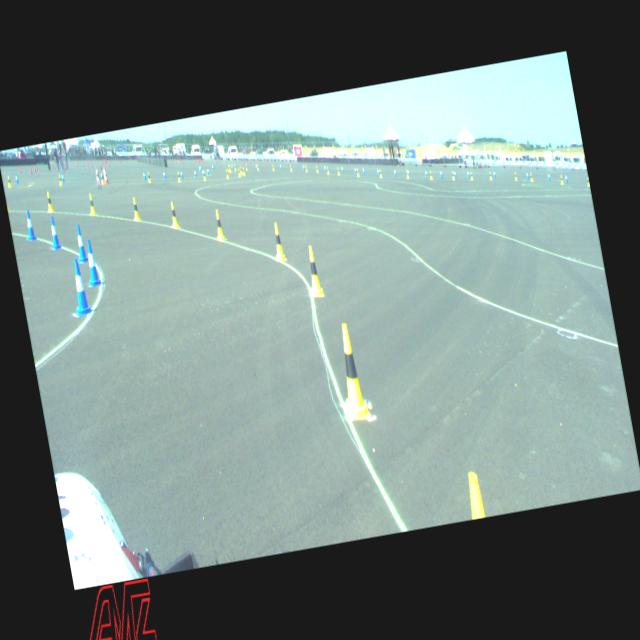blue_cone: (68, 258, 91, 314), (82, 240, 102, 286), (73, 224, 88, 262), (46, 216, 60, 248), (23, 209, 36, 240), (14, 172, 18, 184), (423, 168, 428, 177), (564, 172, 568, 182), (162, 170, 166, 180), (142, 170, 146, 180), (525, 170, 529, 180), (392, 168, 397, 176), (61, 172, 65, 182), (439, 169, 443, 178), (546, 171, 550, 180), (206, 166, 210, 175), (193, 168, 197, 177), (492, 169, 496, 178), (466, 168, 469, 178), (278, 162, 282, 169), (180, 169, 183, 178), (453, 169, 456, 178), (201, 167, 204, 176), (376, 167, 379, 175), (230, 162, 233, 170), (323, 164, 326, 172), (406, 168, 409, 176), (198, 165, 201, 172), (340, 165, 343, 172), (255, 162, 258, 169), (211, 164, 214, 170), (362, 166, 364, 174), (354, 165, 356, 173), (302, 162, 304, 170)
large_orange_cone: (102, 166, 108, 184), (101, 164, 106, 180)
yellow_cone: (331, 321, 370, 418), (304, 246, 324, 296), (270, 222, 285, 260), (212, 208, 225, 240), (168, 200, 179, 228), (130, 197, 140, 220), (86, 193, 96, 215), (44, 190, 54, 212), (56, 173, 62, 185), (5, 194, 9, 210), (176, 170, 181, 182), (6, 175, 11, 186), (99, 173, 104, 184), (558, 174, 564, 183), (428, 170, 433, 179), (146, 171, 150, 182), (586, 175, 590, 186), (225, 168, 229, 178), (202, 170, 206, 180), (488, 170, 492, 180), (378, 168, 382, 178), (469, 171, 473, 180), (237, 168, 241, 177), (514, 171, 518, 180), (405, 169, 409, 178), (529, 172, 533, 180), (228, 165, 232, 172), (304, 164, 308, 171), (451, 170, 454, 179), (242, 166, 245, 175), (336, 166, 339, 175), (326, 165, 329, 174), (356, 168, 359, 177), (315, 164, 318, 173), (239, 166, 242, 174), (227, 164, 230, 172), (233, 163, 236, 170), (245, 163, 248, 170), (271, 163, 274, 170), (289, 163, 292, 170), (256, 163, 259, 170)
